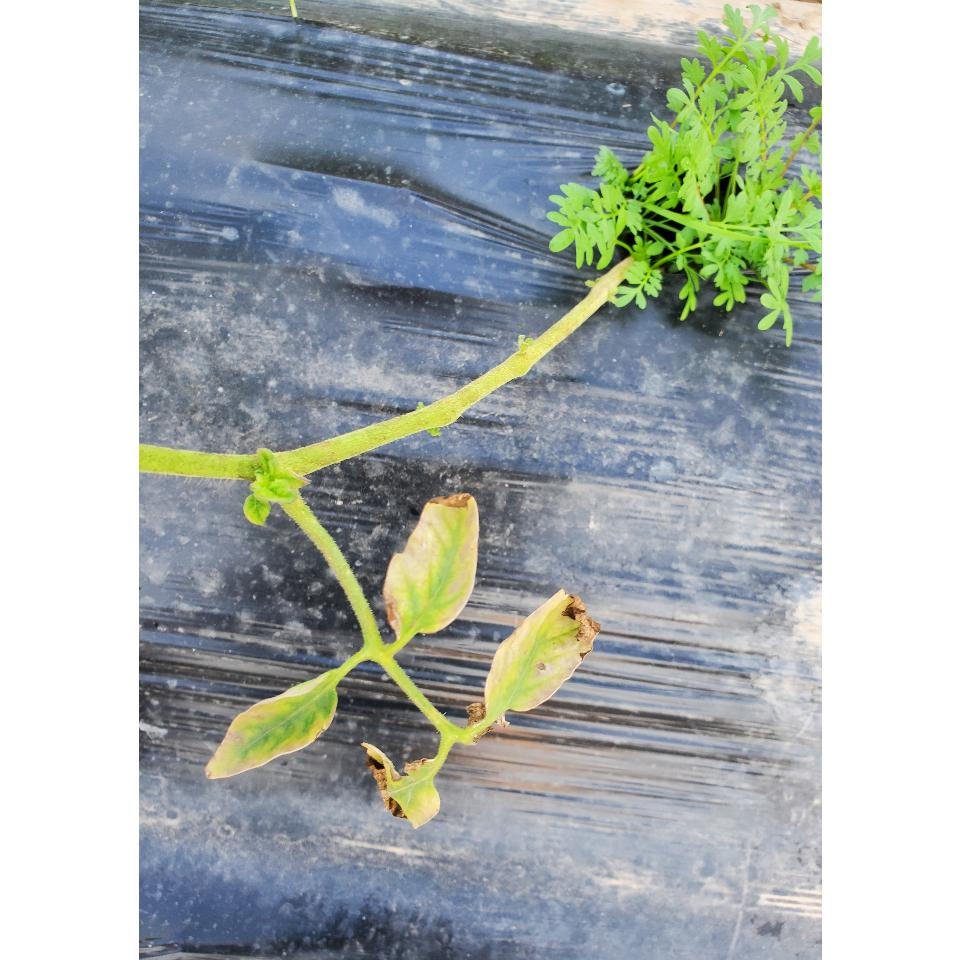tomato_yellow_leaf_curl_virus: (482, 585, 602, 725), (199, 668, 337, 780), (380, 492, 480, 636), (360, 742, 444, 828)
